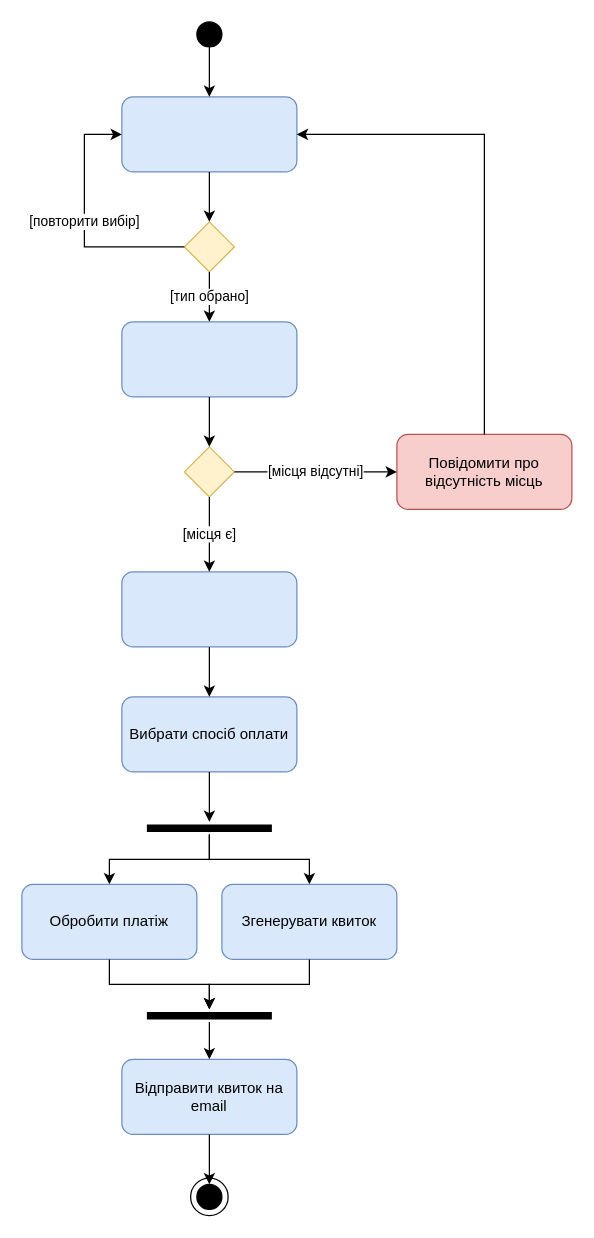
Image size: 594x1238. Some labels were removed from this diagram. The box of each missing label's shape, as (x1, y1, x2, y2) in pixels:
Ввести особисті дані: (121, 571, 297, 647)
Вибрати тип квитка: (121, 96, 297, 172)
Перевірити наявність місць: (121, 321, 297, 397)
